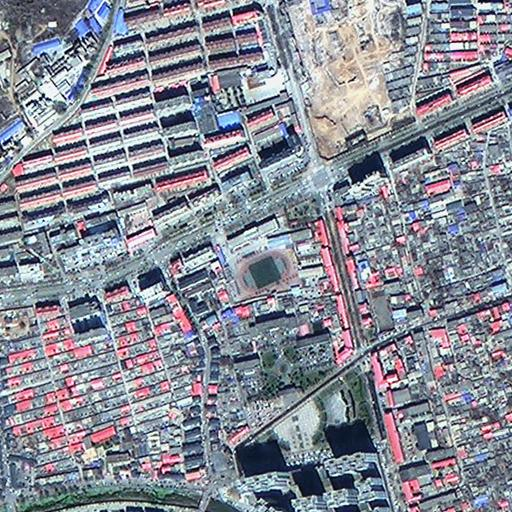school: (223, 214, 300, 295)
